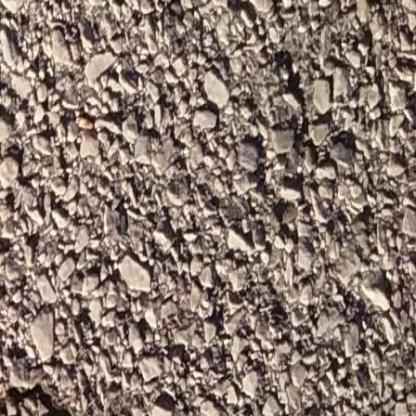Cracks: (200, 0, 373, 194), (0, 338, 81, 416)
